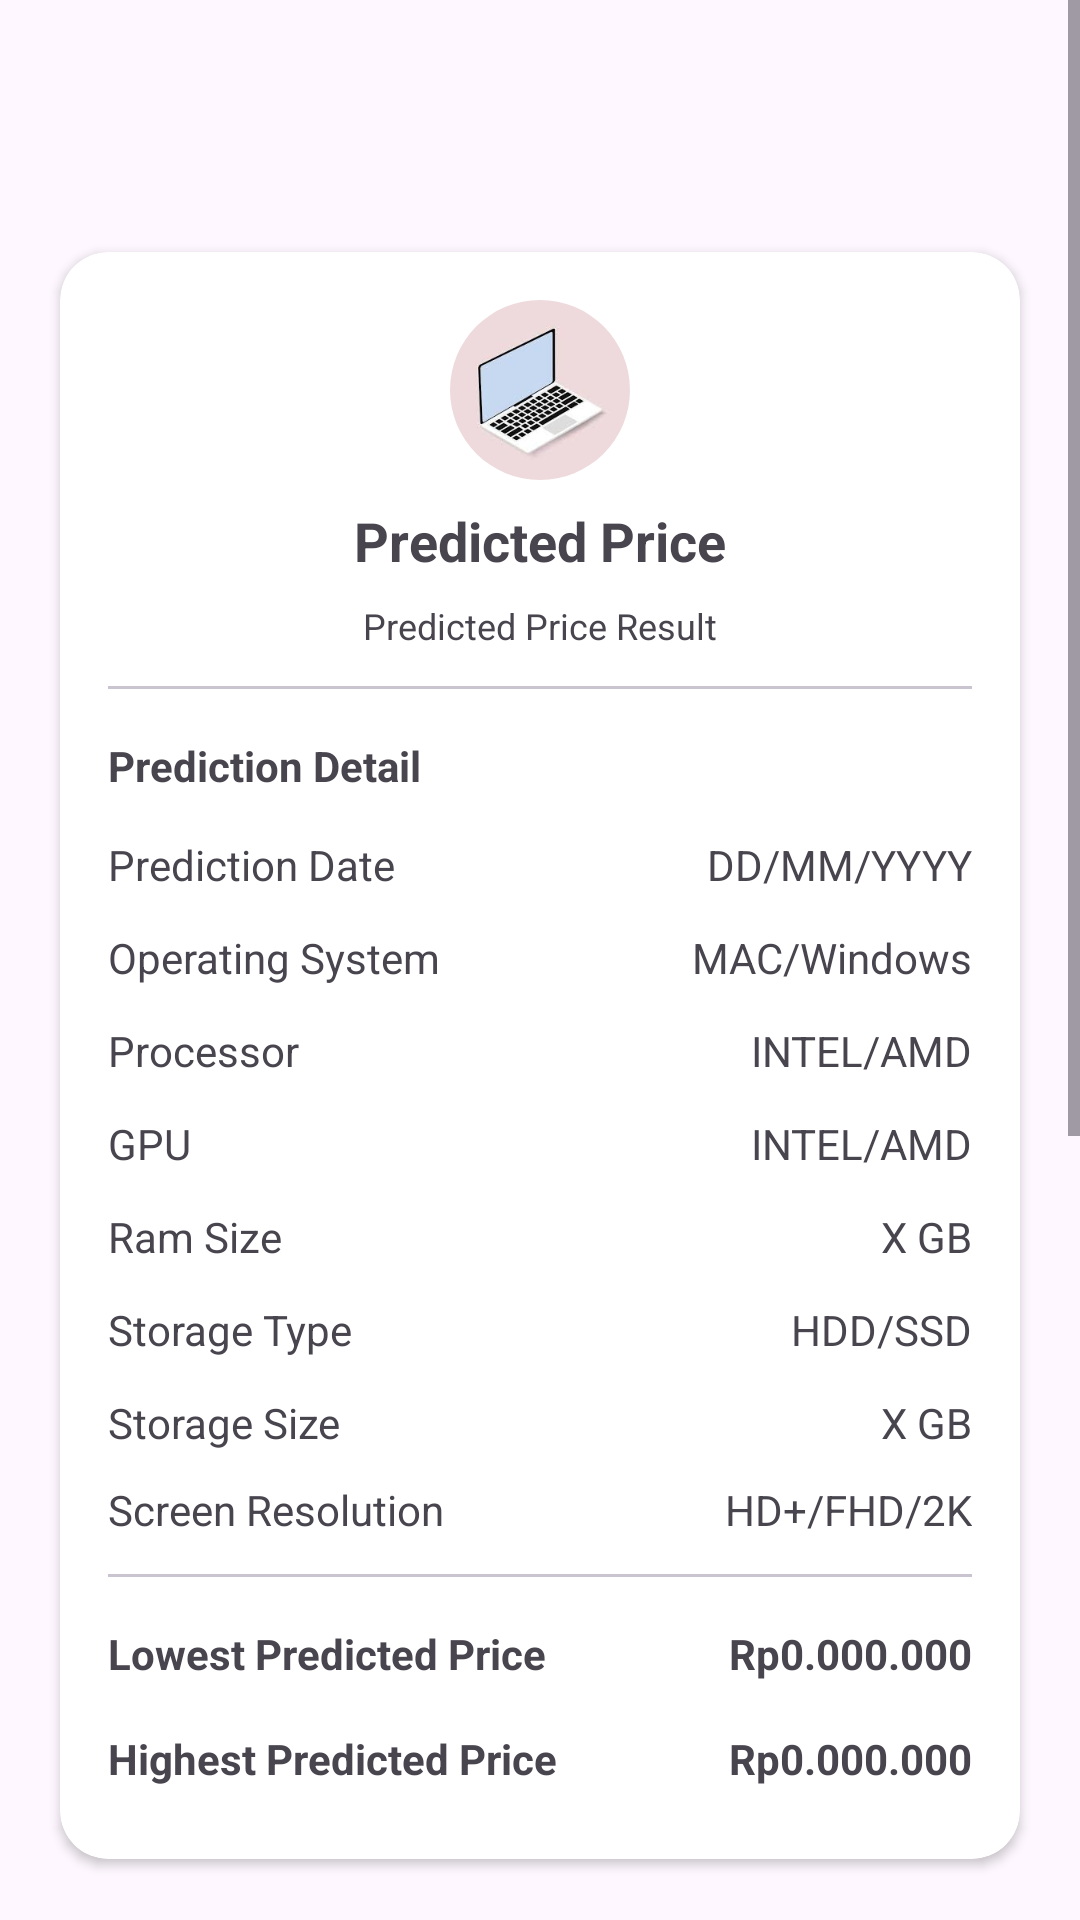

Where icons sit on this 1080px×1920px app screen, as BBox(x1, y1, x2, y2):
laptop: BBox(450, 300, 630, 480)
